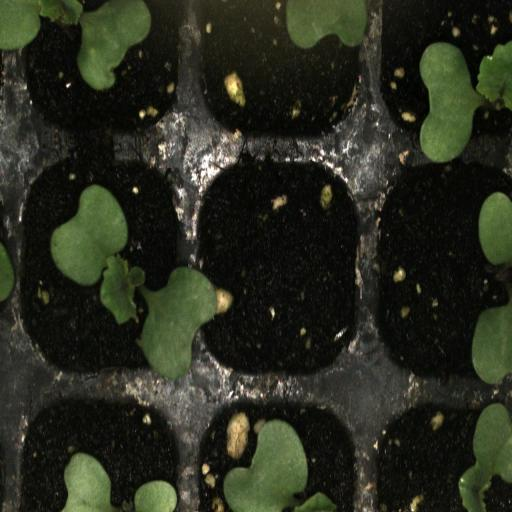Folha: (138, 266, 217, 382), (282, 0, 368, 50), (62, 452, 119, 512), (478, 192, 512, 266)
Germinacao: (14, 148, 192, 384), (11, 0, 192, 146), (370, 0, 512, 148)
